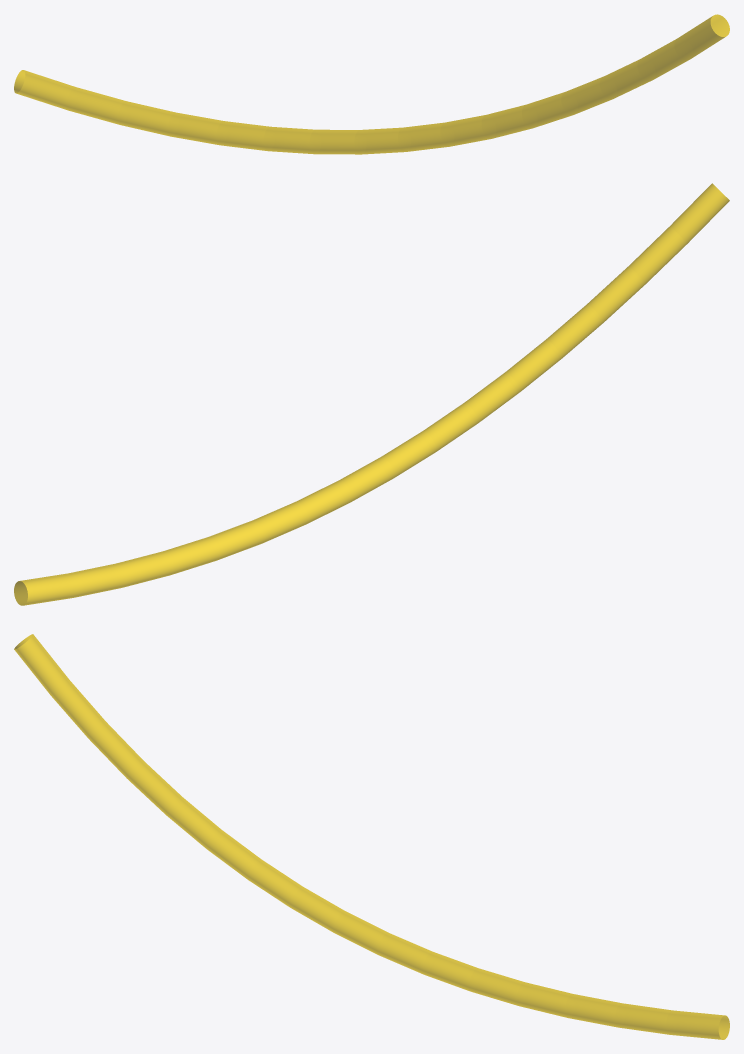
The model's file is Event_402970704_track_7.fbx.
The picture shows the model from 3 angles, top to bottom: view 1: azimuth 90°, elevation 25°; view 2: azimuth 150°, elevation 25°; view 3: azimuth 270°, elevation 25°; orthographic projection.
Parts seen in each view (by area): view 1: Model; view 2: Model; view 3: Model.
Part boxes in pixels (left/top/right/bottom): Model: left=14, top=14, right=729, bottom=154; Model: left=14, top=183, right=729, bottom=605; Model: left=14, top=634, right=729, bottom=1039.
Bounding box in the file's own units: 0.6673 × 0.4485 × 1.16.
